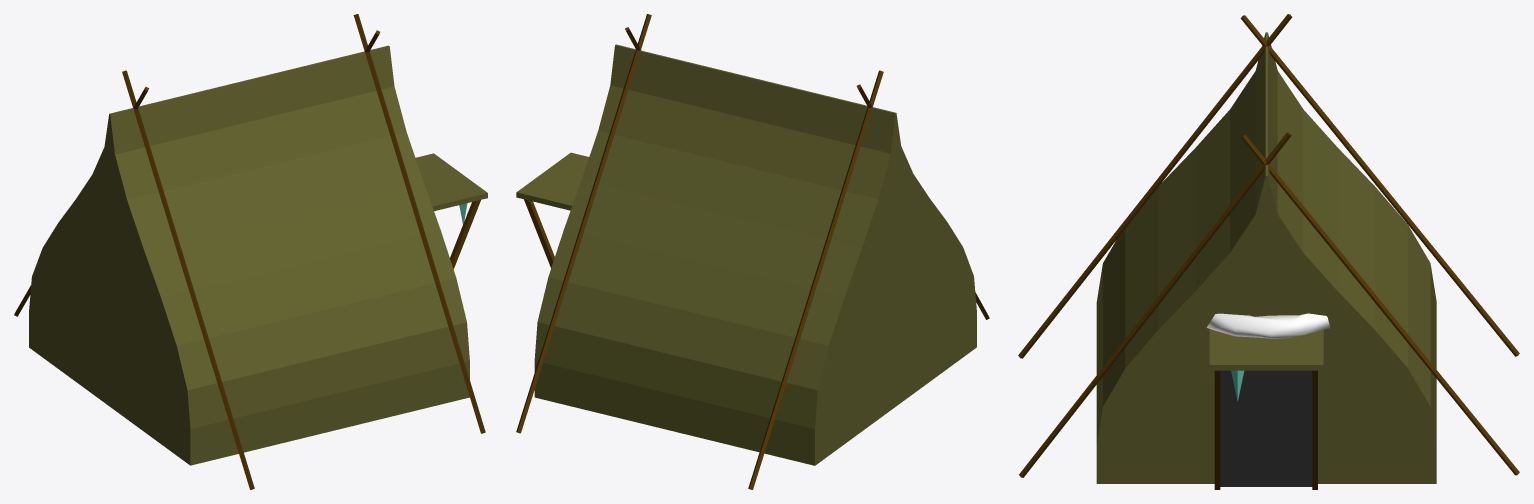
Rendered from tent_2.fbx.
3 views of the same model, side by side, from view 1: azimuth 30°, elevation 25°; view 2: azimuth 150°, elevation 25°; view 3: azimuth 270°, elevation 25° (orthographic). The views are drawn at different scales.
Visible parts, largest first — view 1: Cube, Cylinder.003, Cylinder.001, Cube.001, Cube.003; view 2: Cube, Cylinder, Cylinder.002, Cube.001, Cube.002; view 3: Cube, Cube.004, Cube.001, Cylinder.001, Cylinder.003, Cylinder.002, Cylinder, Torus, Cube.003, Cube.002.
Part boxes in pixels (<box>): Cube: <box>29,45,469,465</box>; Cylinder.003: <box>122,70,254,489</box>; Cylinder.001: <box>353,14,485,433</box>; Cube.001: <box>415,153,487,211</box>; Cube.003: <box>450,200,480,268</box>; Cube: <box>534,44,976,465</box>; Cylinder: <box>516,14,651,433</box>; Cylinder.002: <box>748,70,883,489</box>; Cube.001: <box>516,152,588,210</box>; Cube.002: <box>524,199,554,268</box>; Cube: <box>1096,32,1436,483</box>; Cube.004: <box>1220,370,1312,486</box>; Cube.001: <box>1209,329,1323,370</box>; Cylinder.001: <box>1019,132,1291,477</box>; Cylinder.003: <box>1018,14,1292,358</box>; Cylinder.002: <box>1240,15,1519,356</box>; Cylinder: <box>1240,134,1519,475</box>; Torus: <box>1207,313,1330,338</box>; Cube.003: <box>1214,370,1220,489</box>; Cube.002: <box>1312,370,1317,489</box>.
Size of the model in its own units: 385 by 344 by 452.
